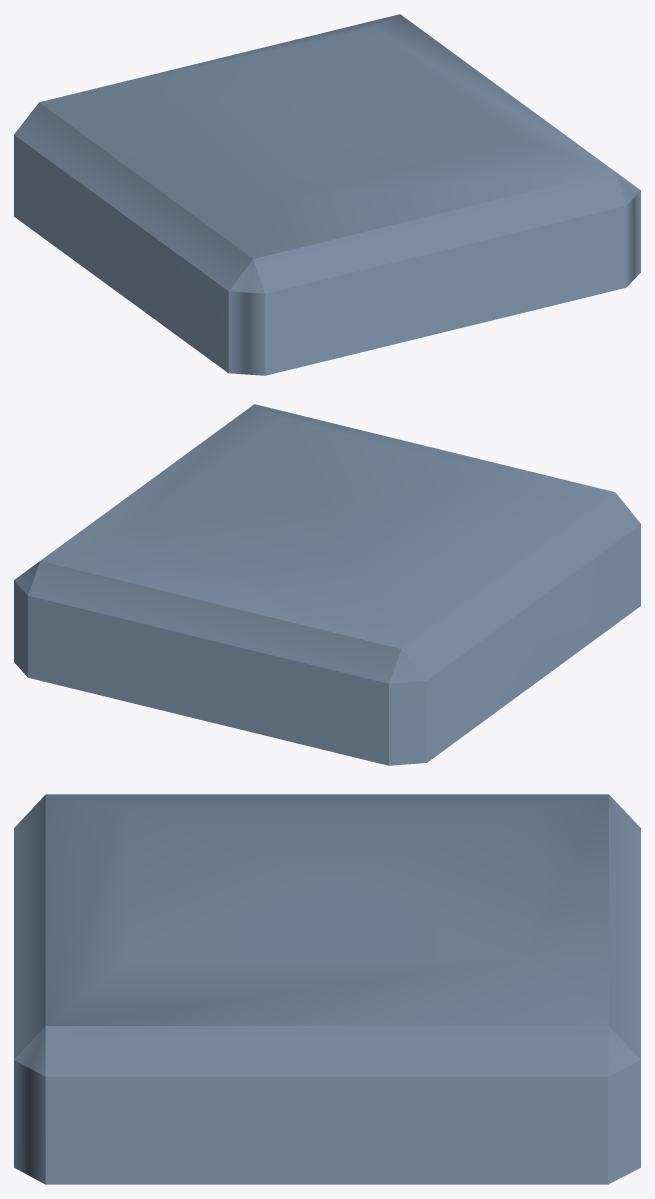
Rendered from foot.obj.
3 renders of one model, top to bottom at view 1: azimuth 30°, elevation 25°; view 2: azimuth 150°, elevation 25°; view 3: azimuth 270°, elevation 25°, orthographic. The views are drawn at different scales.
Parts seen in each view (by area): view 1: Onett5; view 2: Onett5; view 3: Onett5.
Boxes of the visible parts, <box> form: Onett5: <box>14,14,640,375</box>; Onett5: <box>14,404,640,765</box>; Onett5: <box>14,794,640,1184</box>.
Bounding box in the file's own units: 1 × 0.3 × 1.
1 material, 1 textured.
